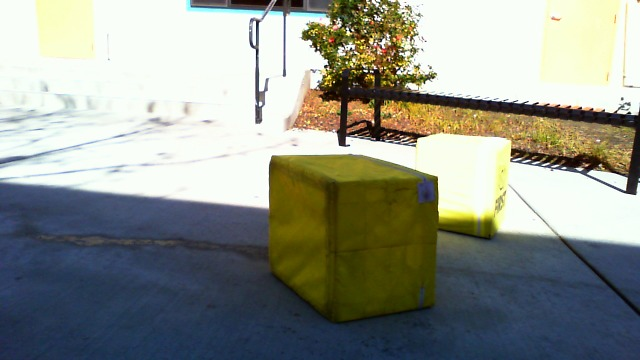cube: (266, 152, 443, 326), (414, 134, 512, 240)
